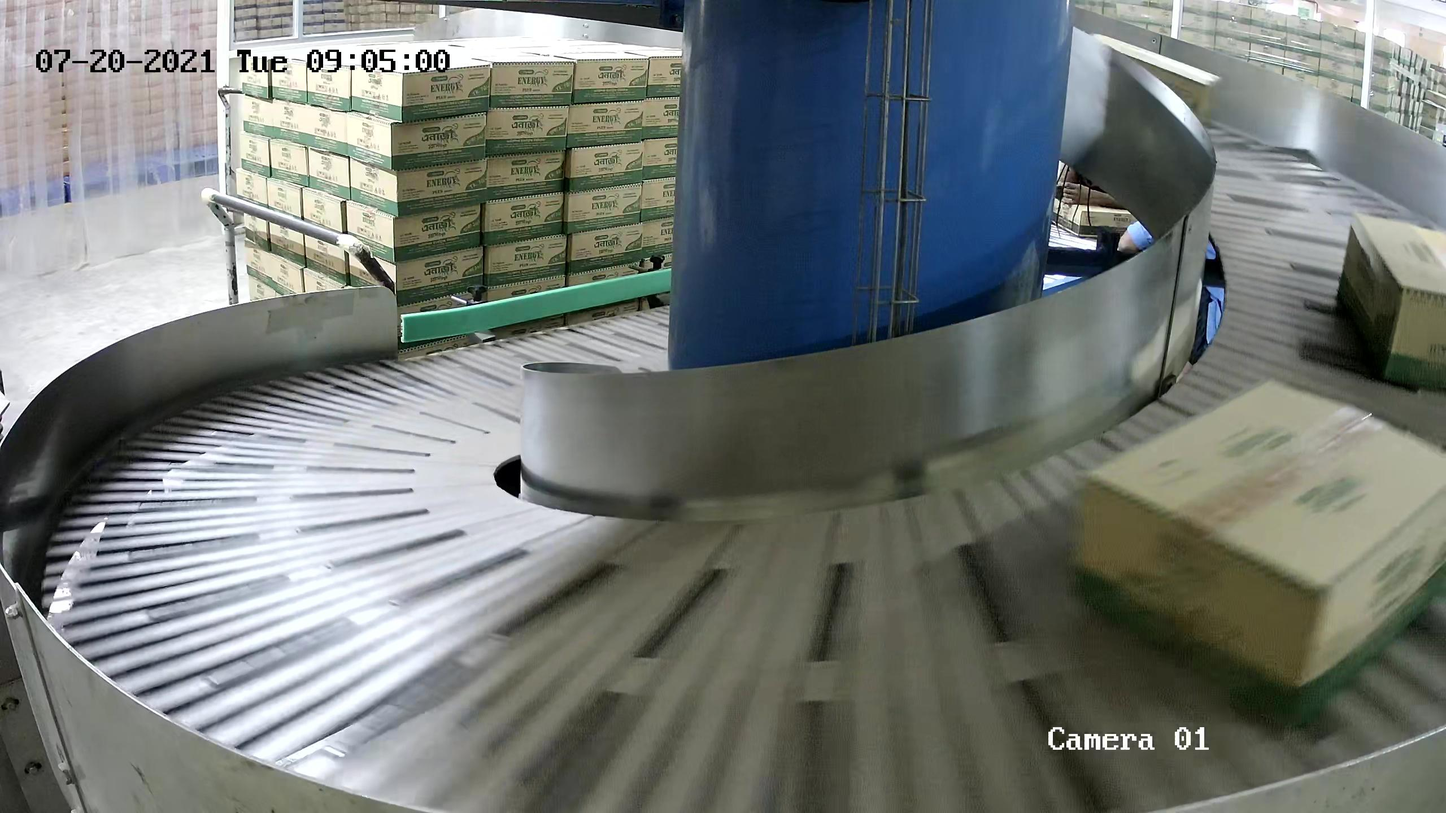Box: (1071, 375, 1446, 745), (1334, 211, 1446, 402)
